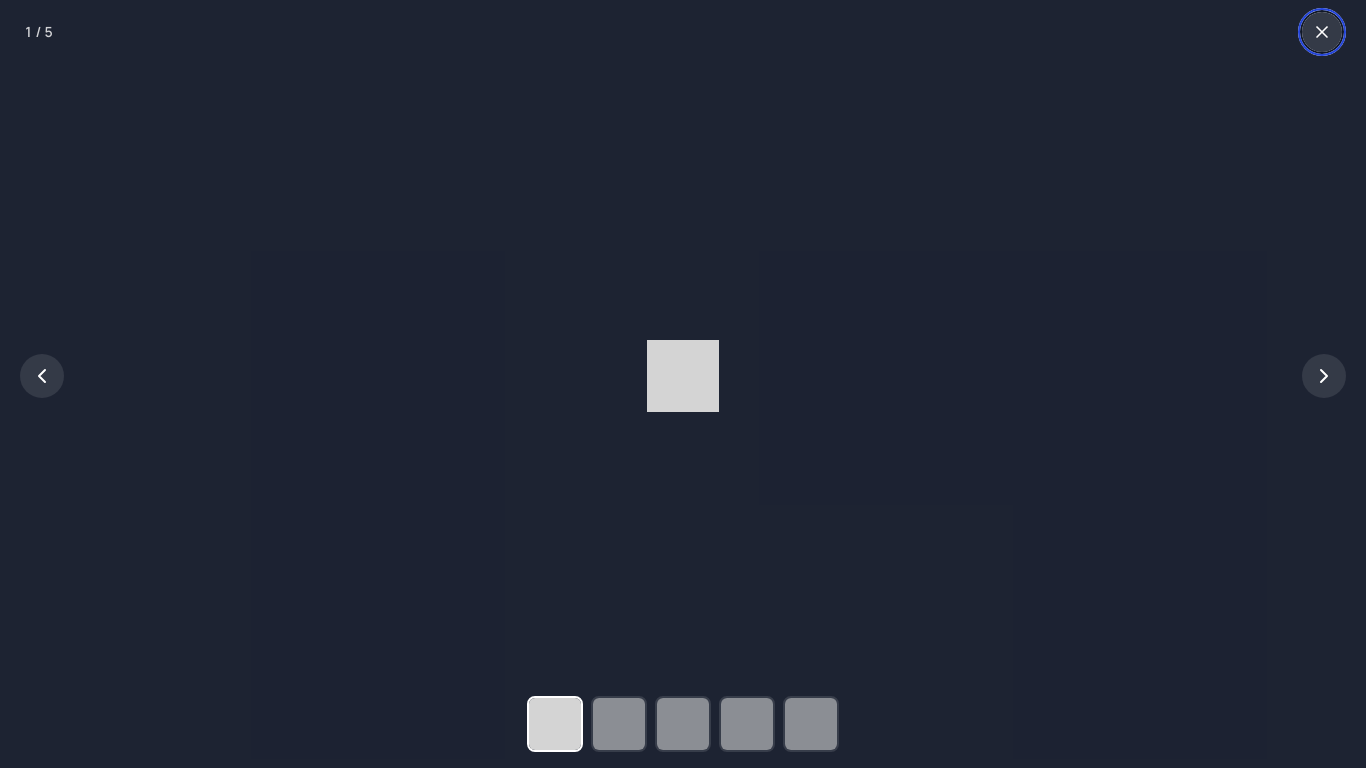
Test: Lightbox › closes on Escape, advances with ArrowRight and a swipe, and hides arrows for one photo
Later steps or results of the test are not shown.
Press Escape
Press Arrowright
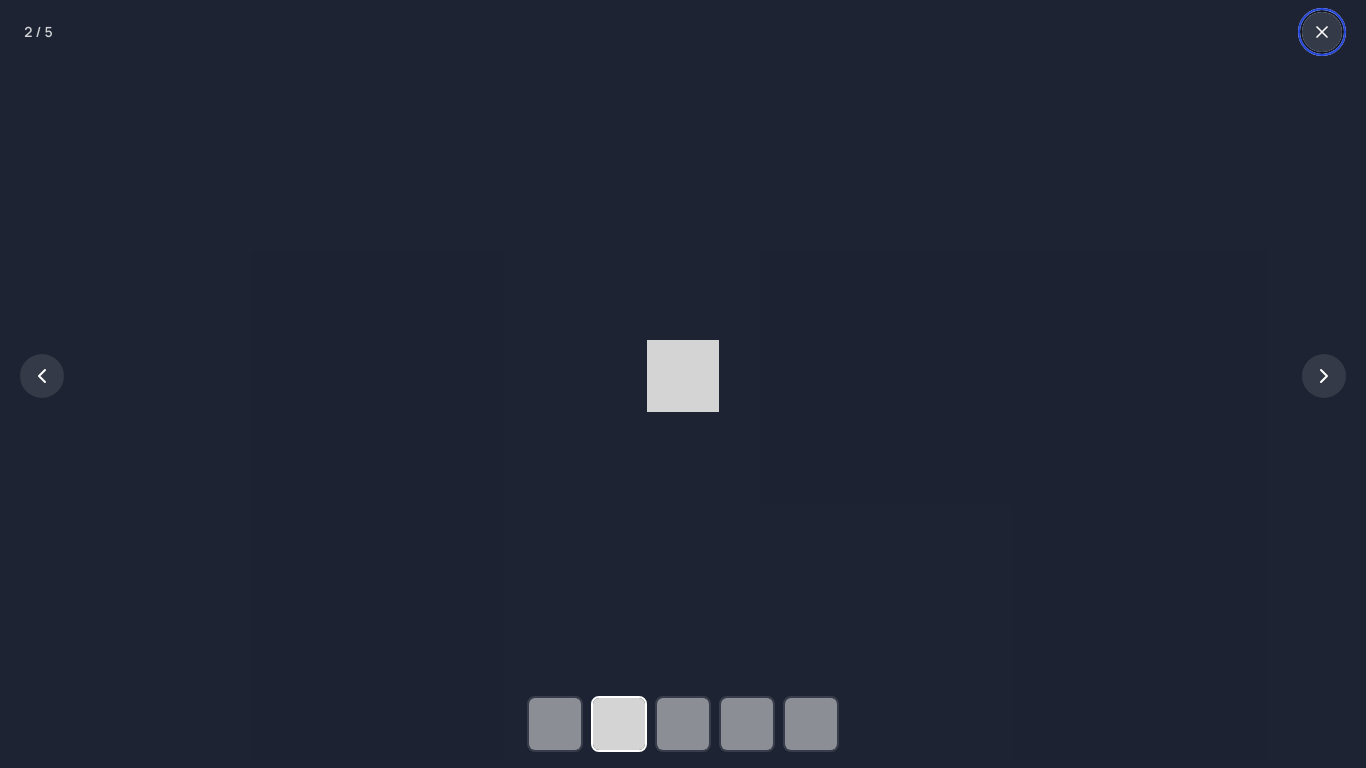
Expected: the text "2 / 5" is shown, [24,22,53,42]
Press the mouse on the element with test id "lightbox-surface" at (683, 376), box [20,340,1346,412]
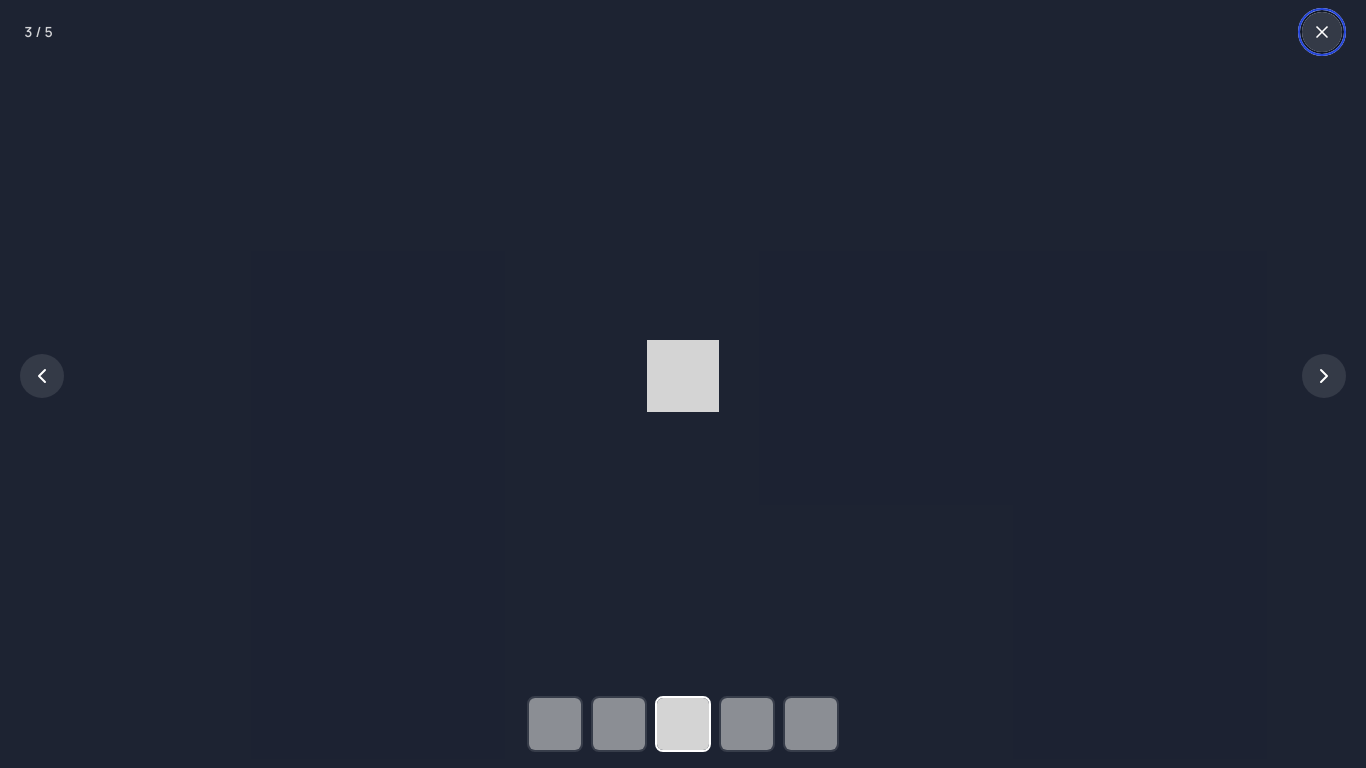
Expected: the text "3 / 5" is shown, [24,22,53,42]
Click the element with test id "lightbox-surface" at (683, 376), box [20,340,1346,412]
Expected: the text "3 / 5" is shown, [24,22,53,42]
